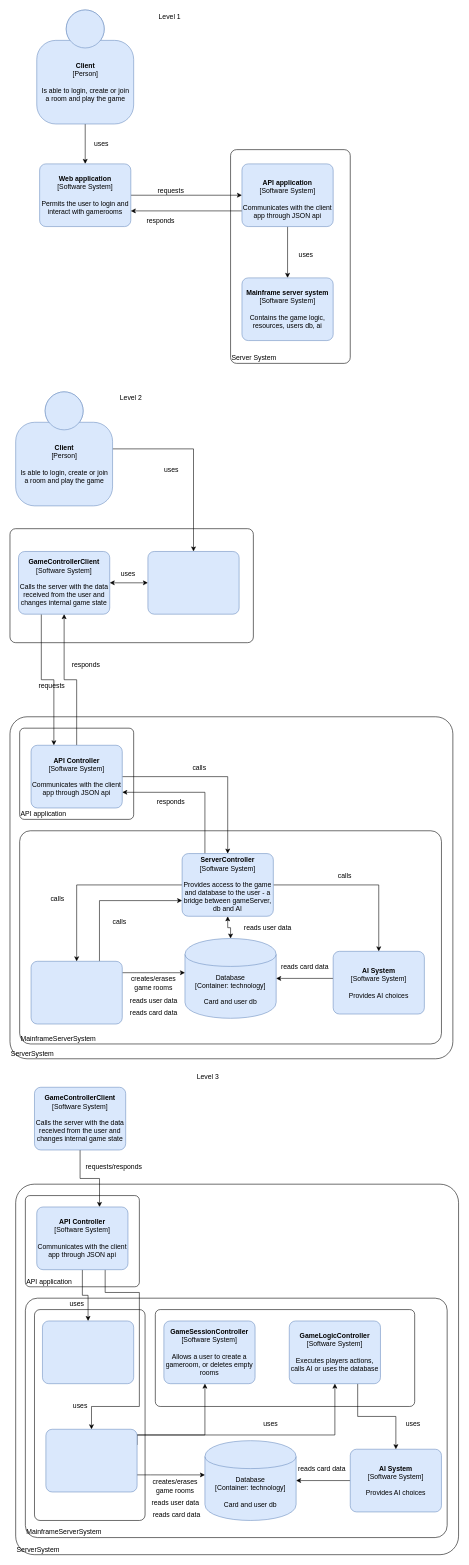
This 469x1565 diagram has some shape labels left out. Each missing label, with the box of its shape:
Front End Controller [Software System] Calls functions based on the user actions: (147, 551, 239, 614)
GameServerSystem: (155, 1309, 415, 1406)
GameServerSystem [Container: technology ] Controls the gamerooms and gamelogic: (30, 961, 122, 1024)
LoginSystem [Software System] Validates the user or registers the user: (42, 1320, 134, 1384)
ServerController: (34, 1309, 145, 1520)
UserActionSystem [Software System] Interprets the user actions: (45, 1429, 137, 1492)
WebApplication: (9, 528, 253, 643)
